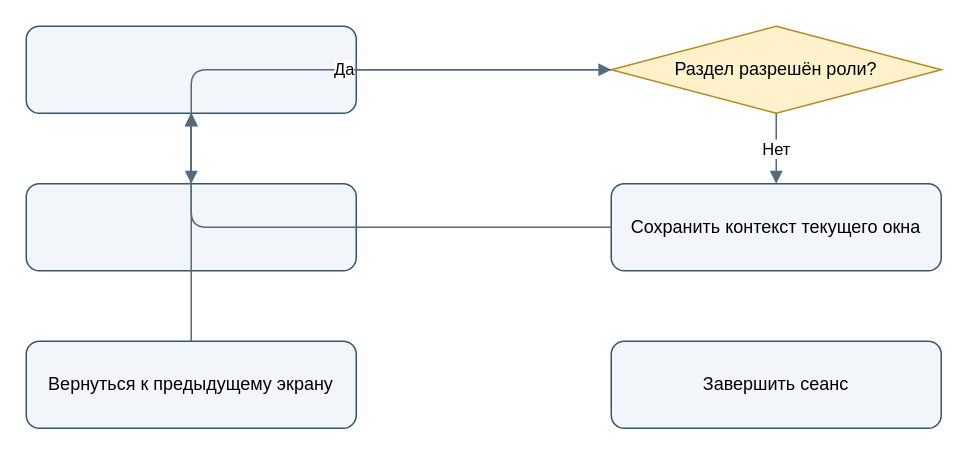
The diagram is 968 pixels wide and 455 high, and some of its shapes have lost their labels. Here are the shapes that lost their labels. From the top down, the box of each, then its label:
(25, 25, 356, 113): Получить команду пользователя
(25, 182, 356, 271): Открыть выбранный экран
